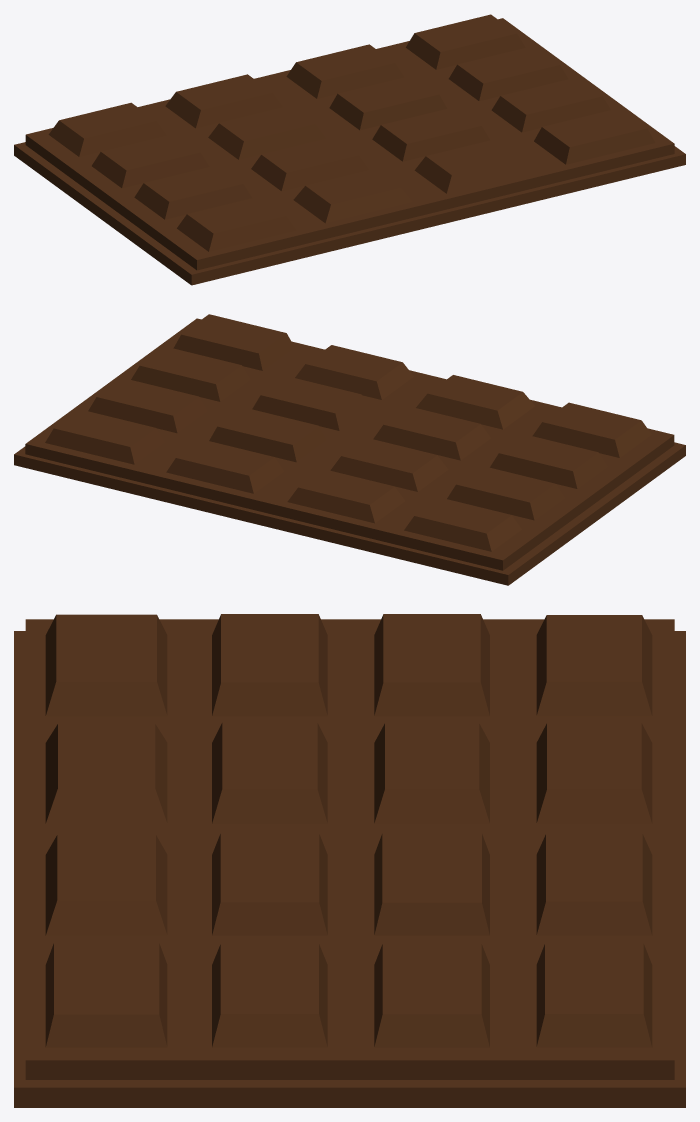
The model's file is coklat batang.fbx.
The picture shows the model from 3 angles, top to bottom: view 1: azimuth 30°, elevation 25°; view 2: azimuth 150°, elevation 25°; view 3: azimuth 270°, elevation 25°; orthographic projection. The views are drawn at different scales.
Visible parts, largest first — view 1: Cube; view 2: Cube; view 3: Cube.
Boxes of the visible parts, bbox=[...] form: Cube: bbox=[14, 14, 685, 285]; Cube: bbox=[14, 314, 685, 585]; Cube: bbox=[14, 614, 685, 1107].
Size of the model in its own units: 207 by 14.26 by 129.
Materials: 1 (1 with a texture image).
